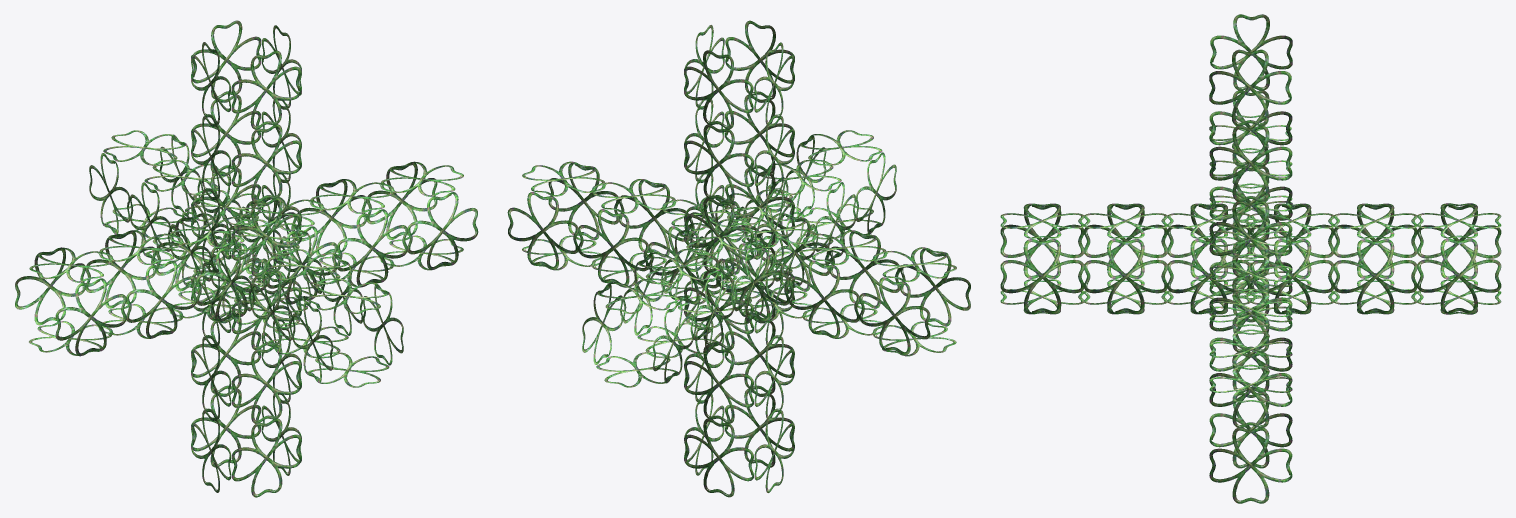
The model's file is Tetrahemihexacron17.gltf.
3 views of the same model, side by side, from view 1: azimuth 30°, elevation 25°; view 2: azimuth 150°, elevation 25°; view 3: azimuth 270°, elevation 25° (orthographic). The views are drawn at different scales.
Parts seen in each view (by area): view 1: Tetrahemihexacron1; view 2: Tetrahemihexacron1; view 3: Tetrahemihexacron1.
Boxes of the visible parts, left/top/right/bottom form: Tetrahemihexacron1: left=15, top=20, right=478, bottom=497; Tetrahemihexacron1: left=507, top=20, right=970, bottom=497; Tetrahemihexacron1: left=1000, top=14, right=1501, bottom=503.
Bounding box in the file's own units: 6 × 6 × 6.
Materials: 1 (1 with a texture image).
